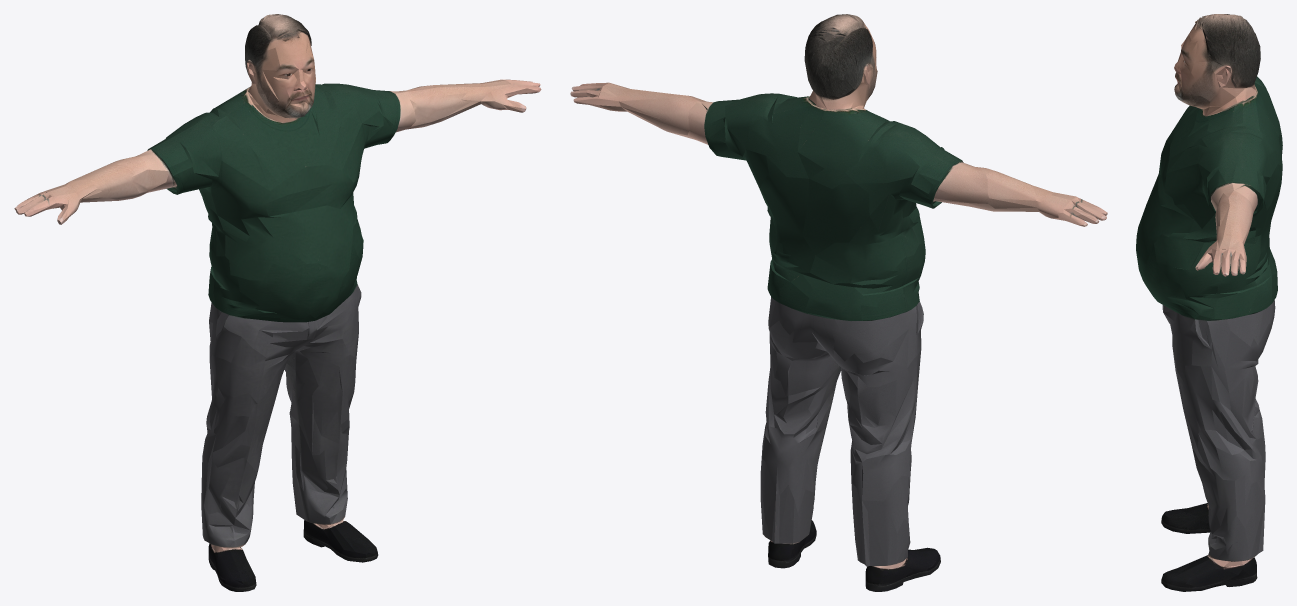
The model's file is image3d.glb.
3 renders of one model, left to right at view 1: azimuth 30°, elevation 25°; view 2: azimuth 150°, elevation 25°; view 3: azimuth 270°, elevation 25°, orthographic.
Bounding box in the file's own units: 1.9 × 1.87 × 0.4594.
Materials: 1 (1 with a texture image).
